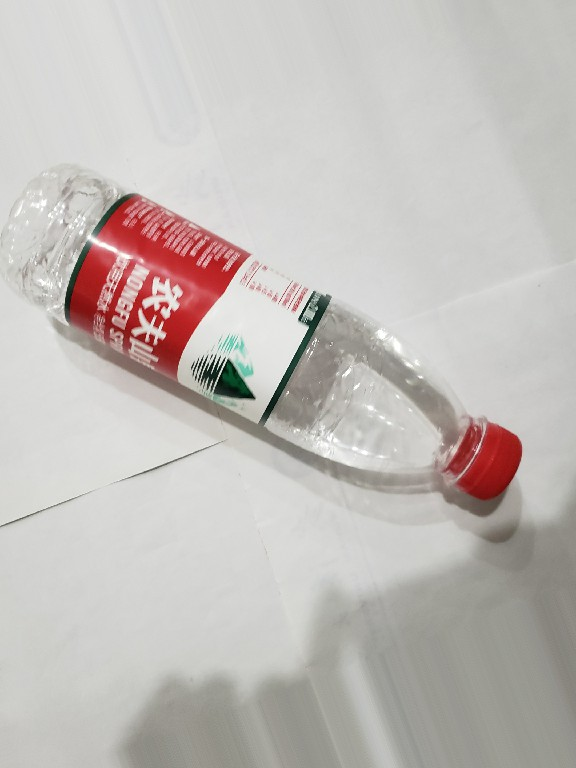bottle: (2, 136, 530, 521)
